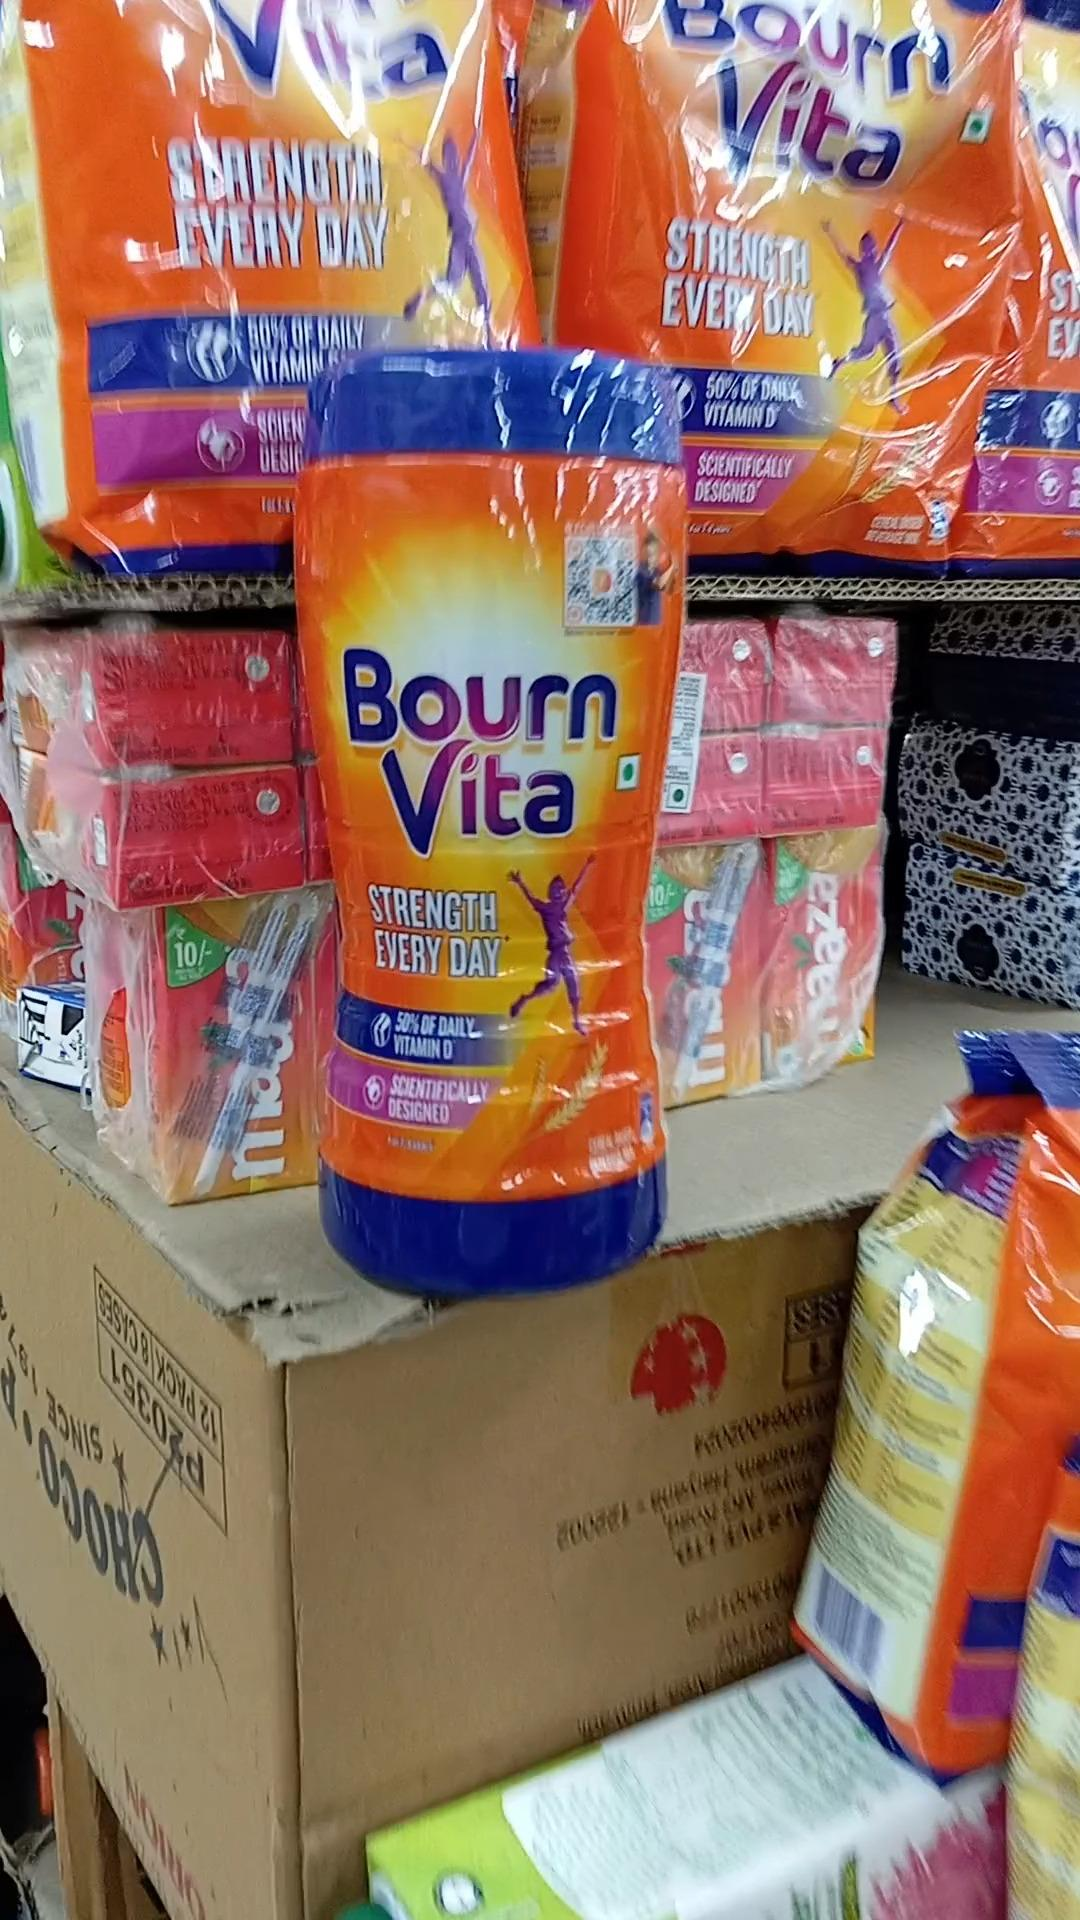COMPLAN_CHOCOLATE_200_GMS_JAR: (290, 327, 658, 1282)
